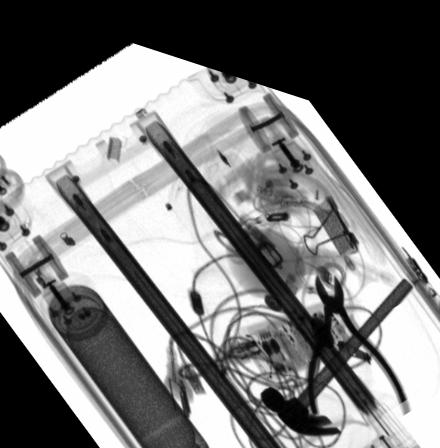Hammer: (258, 251, 410, 415)
Pliers: (304, 253, 418, 400)
